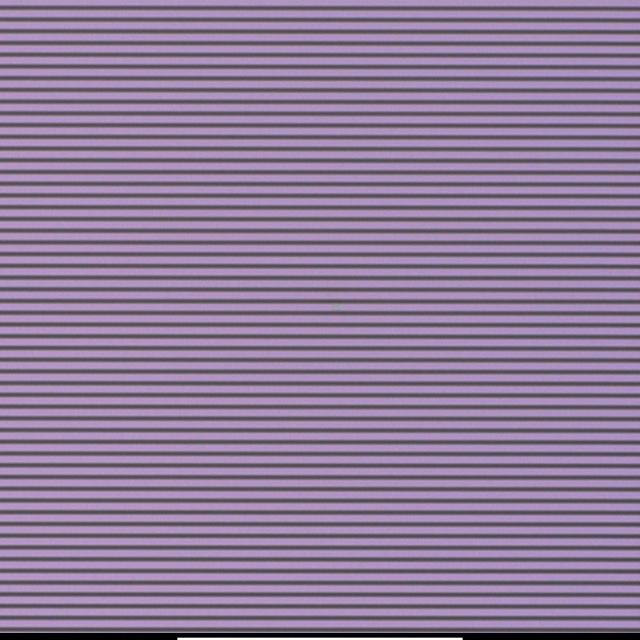nonvisual: (331, 300, 346, 312)
